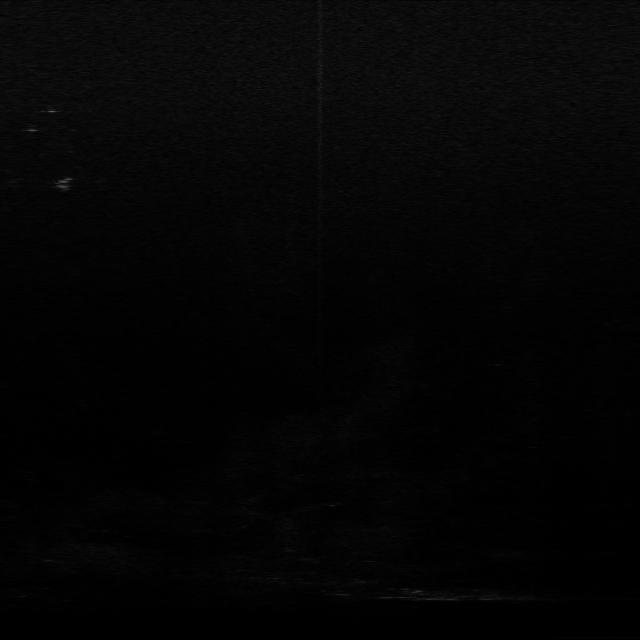rov: (48, 176, 74, 194)
